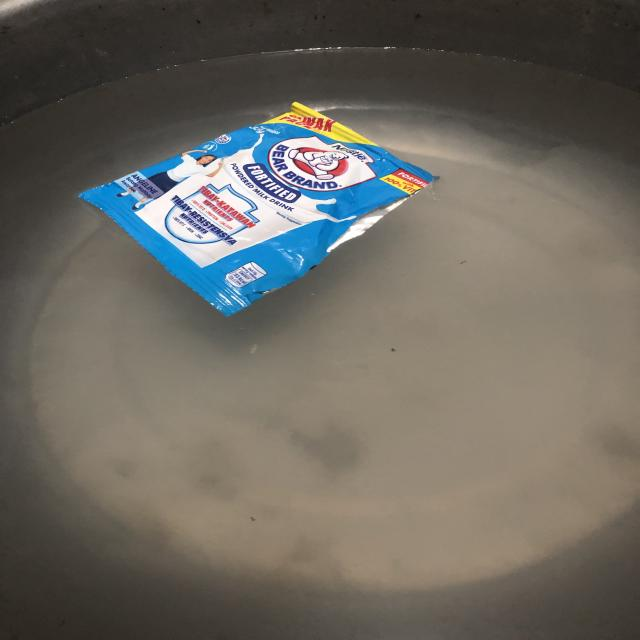Plastic Wrapper: (87, 104, 438, 313)
